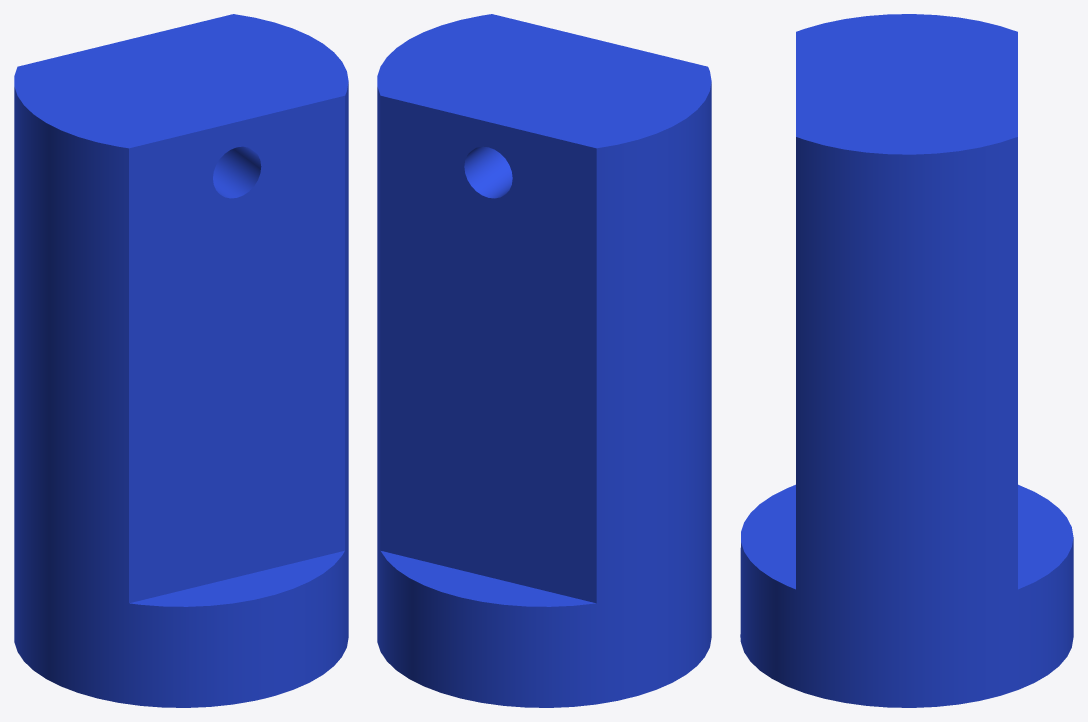
The picture shows the model from 3 angles, left to right: view 1: azimuth 30°, elevation 25°; view 2: azimuth 150°, elevation 25°; view 3: azimuth 270°, elevation 25°; orthographic projection.
Parts seen in each view (by area): view 1: color; view 2: color; view 3: color.
Part boxes in pixels (x1=…): color: x1=14, y1=14, x2=348, y2=707; color: x1=377, y1=14, x2=711, y2=707; color: x1=740, y1=14, x2=1073, y2=707.
Size of the model in its own units: 7.62 by 13.97 by 7.62.
